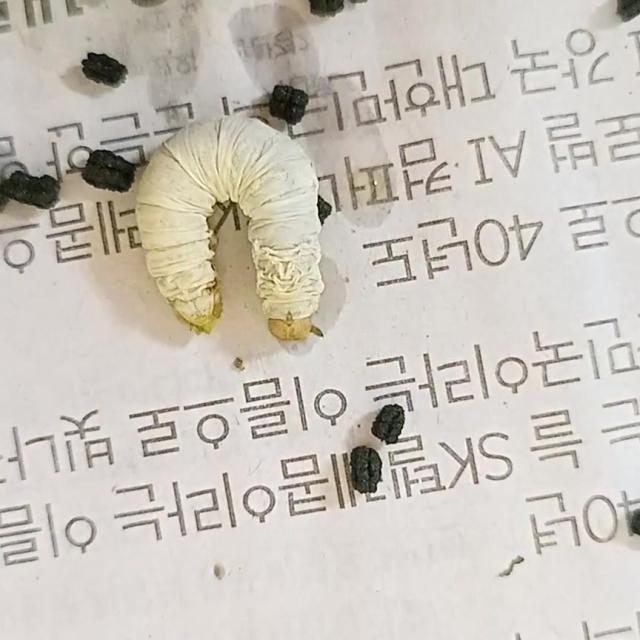Grasserie: (116, 92, 370, 371)
